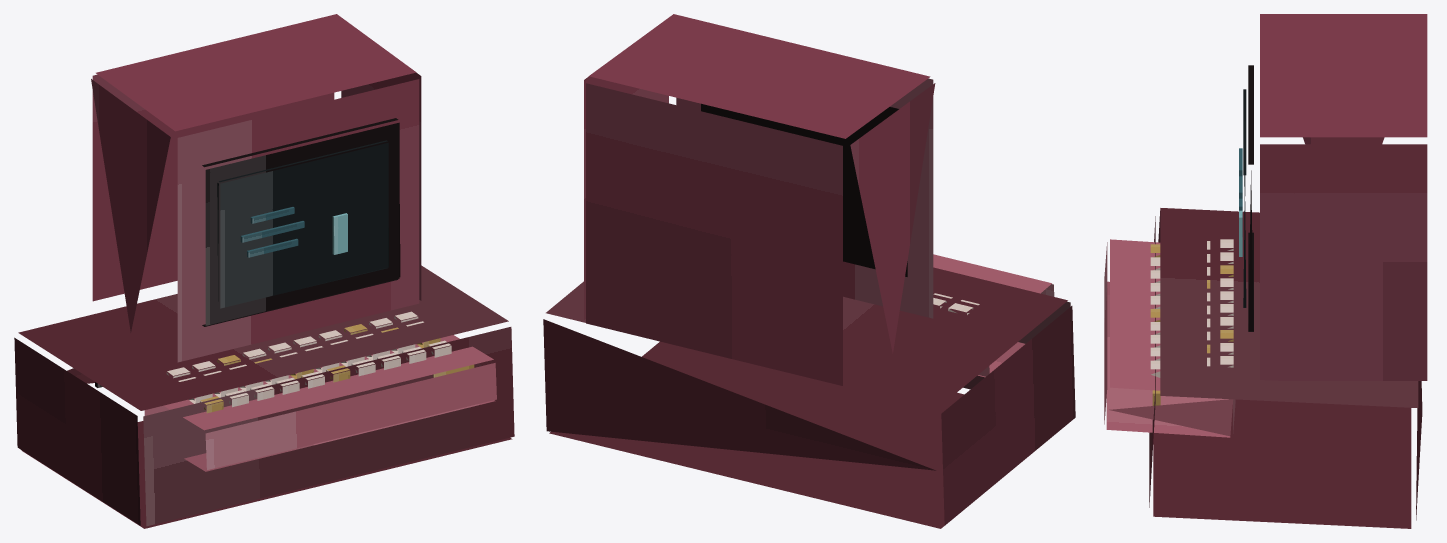
File: retro_computer_terminal_burgundy.glb
The picture shows the model from 3 angles, left to right: view 1: azimuth 30°, elevation 25°; view 2: azimuth 150°, elevation 25°; view 3: azimuth 270°, elevation 25°; orthographic projection. The views are drawn at different scales.
Visible parts, largest first — view 1: MonitorShell, TerminalWedge, MonitorGlow, KeyboardBody, MonitorFace, ScreenGlyph_4; view 2: MonitorShell, TerminalWedge, MonitorFace, KeyboardBody; view 3: MonitorShell, TerminalWedge, KeyboardBody, MonitorFace, MonitorGlow.
Part boxes in pixels (<box>): MonitorShell: <box>91,14,421,362</box>; TerminalWedge: <box>14,265,514,528</box>; MonitorGlow: <box>217,140,388,308</box>; KeyboardBody: <box>144,335,496,471</box>; MonitorFace: <box>202,118,400,326</box>; ScreenGlyph_4: <box>332,213,347,254</box>; MonitorShell: <box>584,14,935,385</box>; TerminalWedge: <box>543,267,1075,528</box>; MonitorFace: <box>701,103,907,276</box>; KeyboardBody: <box>933,254,1054,377</box>; MonitorShell: <box>1260,14,1427,380</box>; TerminalWedge: <box>1149,208,1422,528</box>; KeyboardBody: <box>1104,239,1235,437</box>; MonitorFace: <box>1248,65,1253,331</box>; MonitorGlow: <box>1243,89,1246,307</box>.
Bounding box in the file's own units: 1.01 × 0.914 × 0.7379.
Materials: 1 (1 with a texture image).
